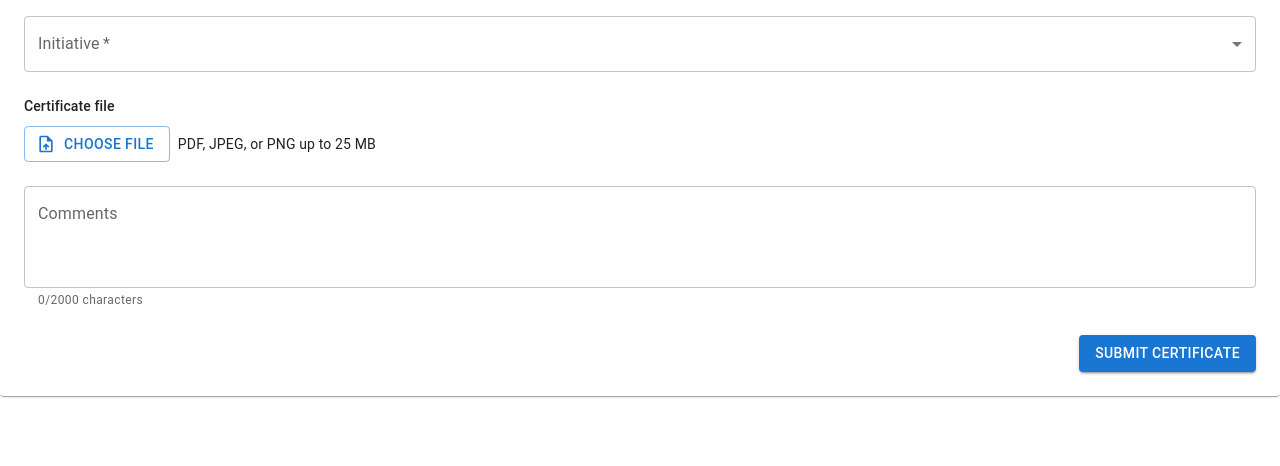
Test: SubmitCertificateForm › shows validation errors when required fields are missing
Click the button "Submit certificate" at x=1168, y=354, box [1079, 335, 1256, 372]
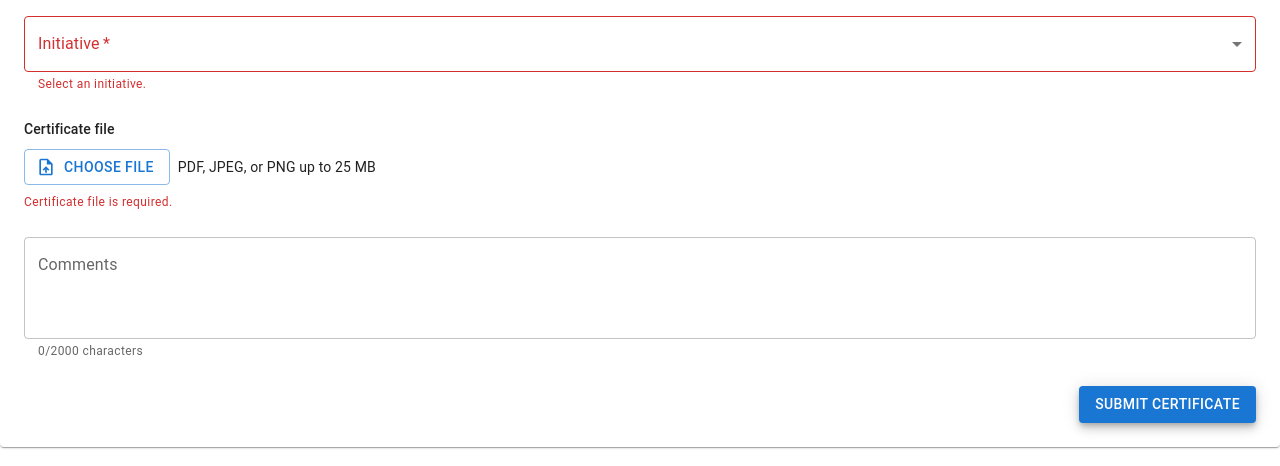
Expected: the text "Select an initiative." is shown, [38, 77, 146, 91]
Expected: the text "Certificate file is required." is shown, [24, 195, 172, 209]
